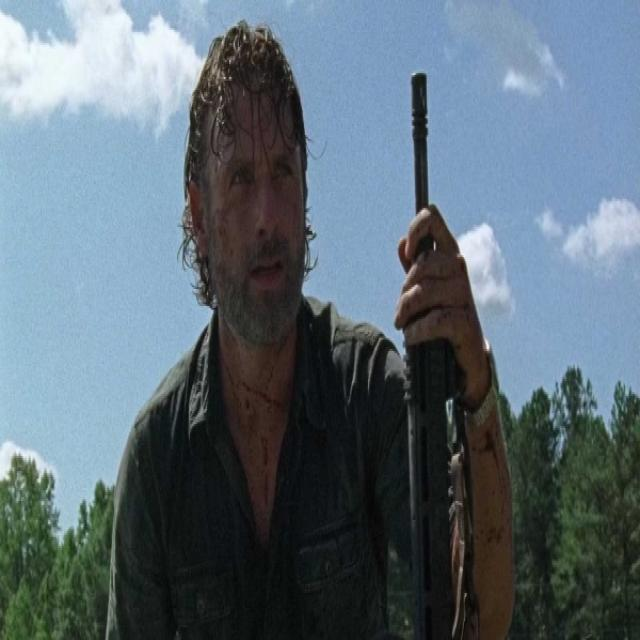rifle: (402, 61, 482, 640)
